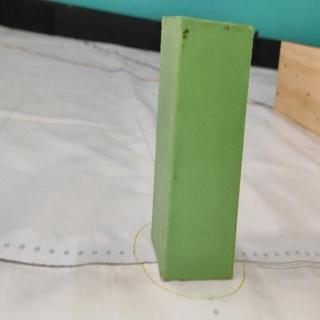greenbox: (159, 17, 246, 281)
